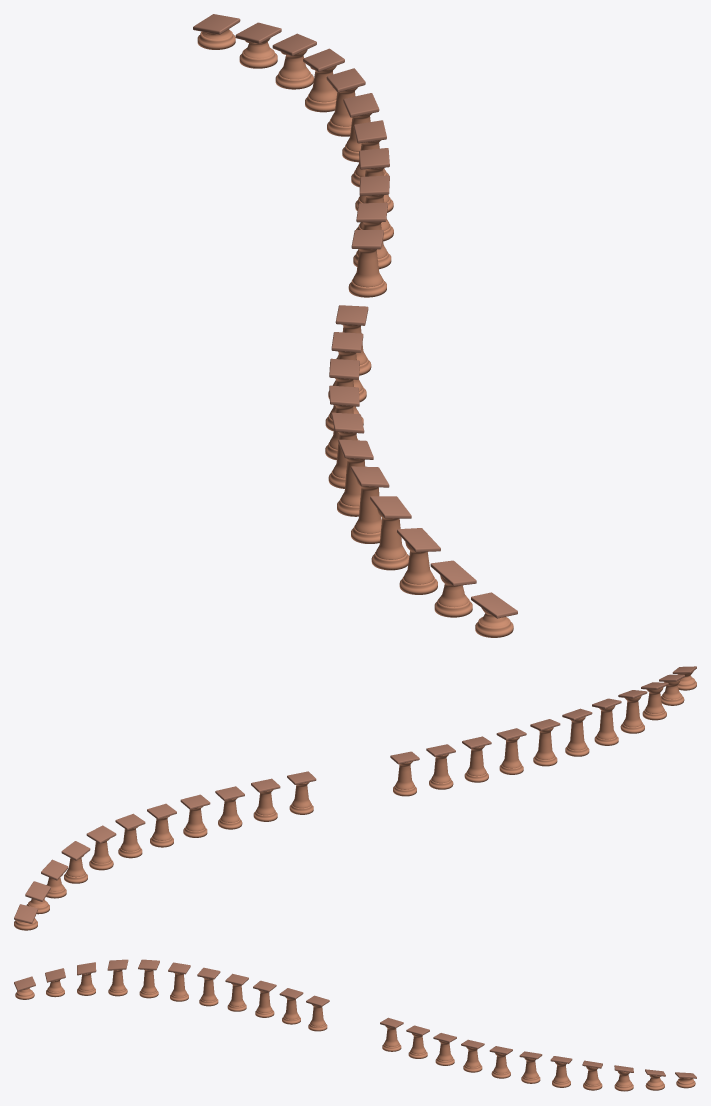
File: sc02_supports_classic_fixture.glb
The picture shows the model from 3 angles, top to bottom: view 1: azimuth 30°, elevation 25°; view 2: azimuth 150°, elevation 25°; view 3: azimuth 270°, elevation 25°; orthographic projection. The views are drawn at different scales.
Parts seen in each view (by area): view 1: SC02_CLASSIC_18_shaft, SC02_CLASSIC_17_shaft; view 2: SC02_CLASSIC_17_shaft, SC02_CLASSIC_16_shaft, SC02_CLASSIC_15_shaft, SC02_CLASSIC_18_shaft, SC02_CLASSIC_14_shaft, SC02_CLASSIC_13_shaft; view 3: SC02_CLASSIC_17_shaft, SC02_CLASSIC_16_shaft, SC02_CLASSIC_15_shaft, SC02_CLASSIC_14_shaft, SC02_CLASSIC_13_shaft, SC02_CLASSIC_12_shaft, SC02_CLASSIC_18_shaft, SC02_CLASSIC_11_shaft, SC02_CLASSIC_05_shaft, SC02_CLASSIC_04_shaft, SC02_CLASSIC_06_shaft, SC02_CLASSIC_07_shaft (+3 smaller).
Part boxes in pixels (x1,y1,x2,y2): SC02_CLASSIC_18_shaft: (375,509,405,559); SC02_CLASSIC_17_shaft: (354,479,381,533); SC02_CLASSIC_17_shaft: (597,705,616,739); SC02_CLASSIC_16_shaft: (567,716,586,750); SC02_CLASSIC_15_shaft: (535,727,554,759); SC02_CLASSIC_18_shaft: (623,695,642,727); SC02_CLASSIC_14_shaft: (502,737,521,768); SC02_CLASSIC_13_shaft: (467,746,486,776); SC02_CLASSIC_17_shaft: (141,969,156,993); SC02_CLASSIC_16_shaft: (172,972,186,996); SC02_CLASSIC_15_shaft: (201,977,216,1001); SC02_CLASSIC_14_shaft: (229,983,244,1006); SC02_CLASSIC_13_shaft: (257,989,272,1012); SC02_CLASSIC_12_shaft: (284,997,298,1019); SC02_CLASSIC_18_shaft: (110,969,125,991); SC02_CLASSIC_11_shaft: (310,1004,325,1026); SC02_CLASSIC_05_shaft: (523,1057,538,1078); SC02_CLASSIC_04_shaft: (554,1062,568,1082); SC02_CLASSIC_06_shaft: (493,1053,508,1073); SC02_CLASSIC_07_shaft: (465,1047,480,1067).
Size of the model in its own units: 97.17 by 13.95 by 257.
